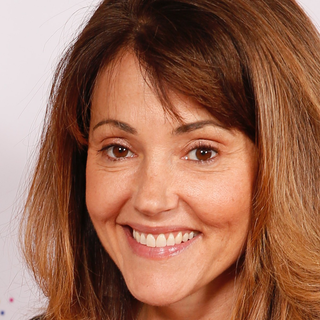eye: (172, 135, 229, 169), (90, 134, 141, 169)
